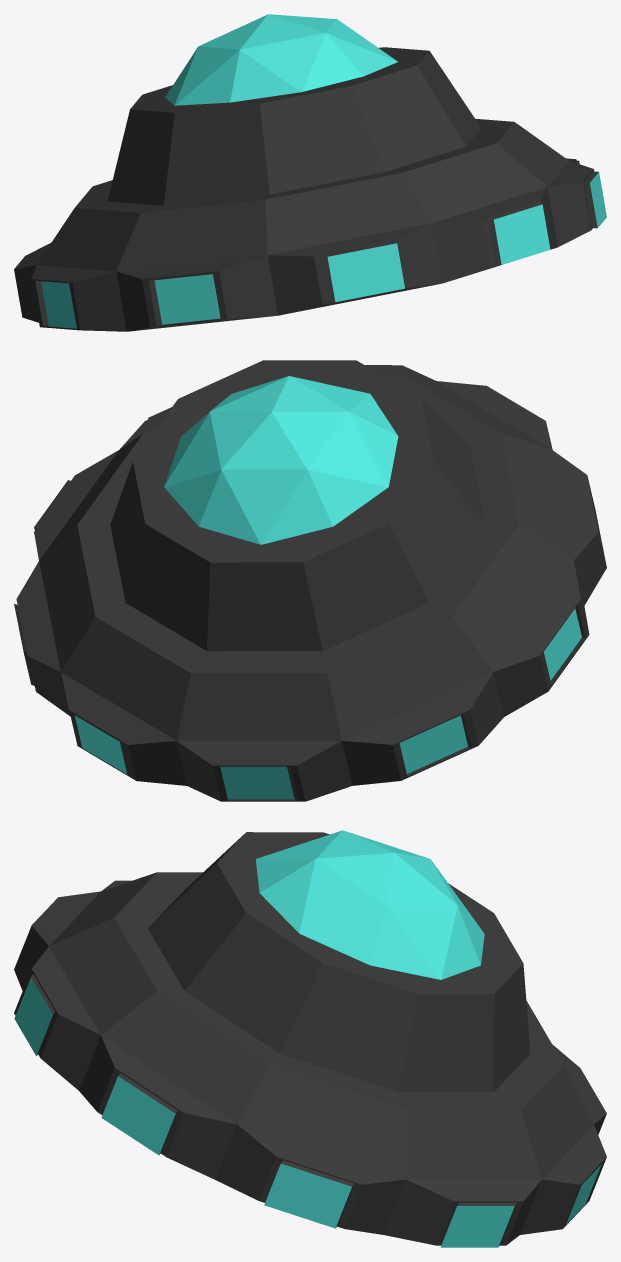
The model's file is UFO2.fbx.
3 renders of one model, top to bottom at view 1: azimuth 30°, elevation 25°; view 2: azimuth 150°, elevation 25°; view 3: azimuth 270°, elevation 25°, orthographic. The views are drawn at different scales.
Visible parts, largest first — view 1: Cylinder; view 2: Cylinder; view 3: Cylinder.
Part boxes in pixels (x1,y1,x2,y2): Cylinder: (14, 14, 606, 331); Cylinder: (14, 360, 606, 801); Cylinder: (14, 830, 606, 1247).
Size of the model in its own units: 280 by 166 by 269.
